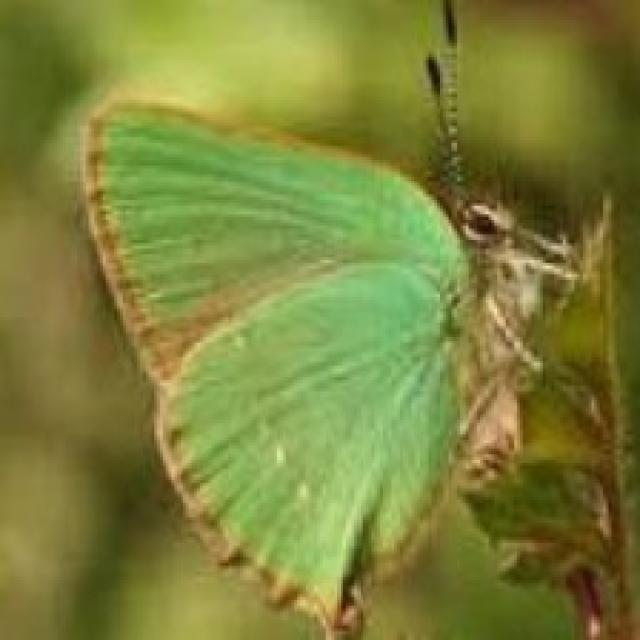butterfly: (74, 0, 626, 637)
